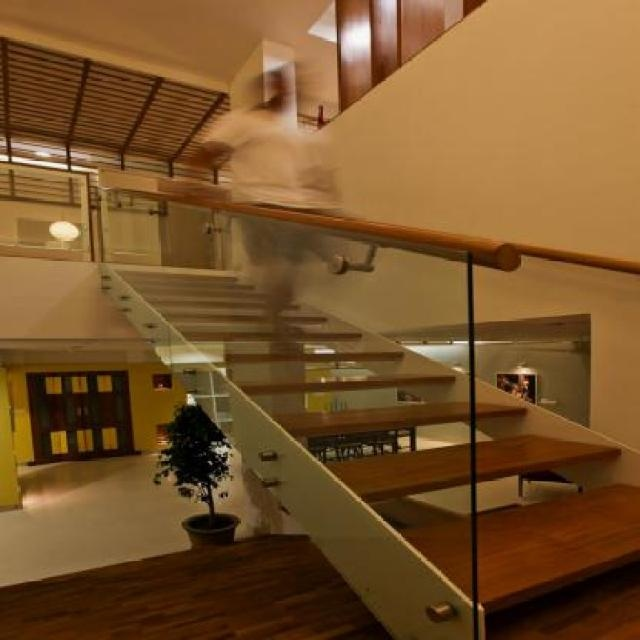stair: (20, 172, 640, 638)
